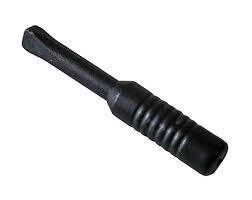screwdriver: (20, 24, 227, 175)
